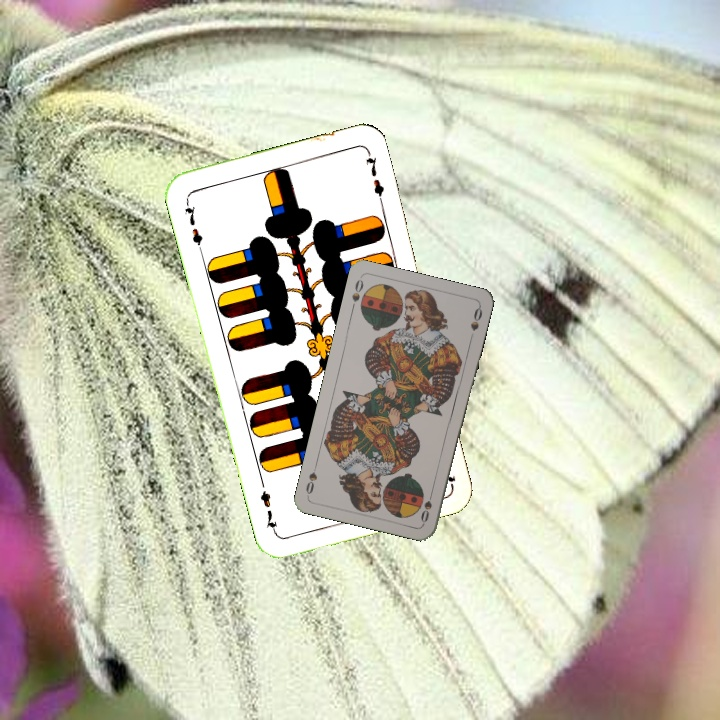E7: (180, 195, 205, 254)
SO: (417, 485, 436, 525), (347, 275, 366, 314)
